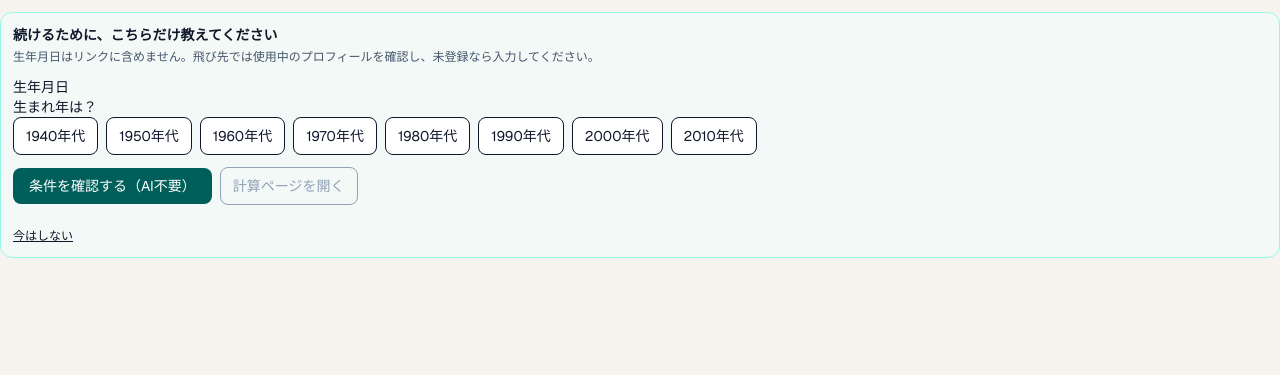
it: 月日不明の本命星は代表日を送り、保存しない
The width and height of the screenshot is (1280, 375).
Click the button "1990年代".
click(521, 136)  # box [478,117,564,155]
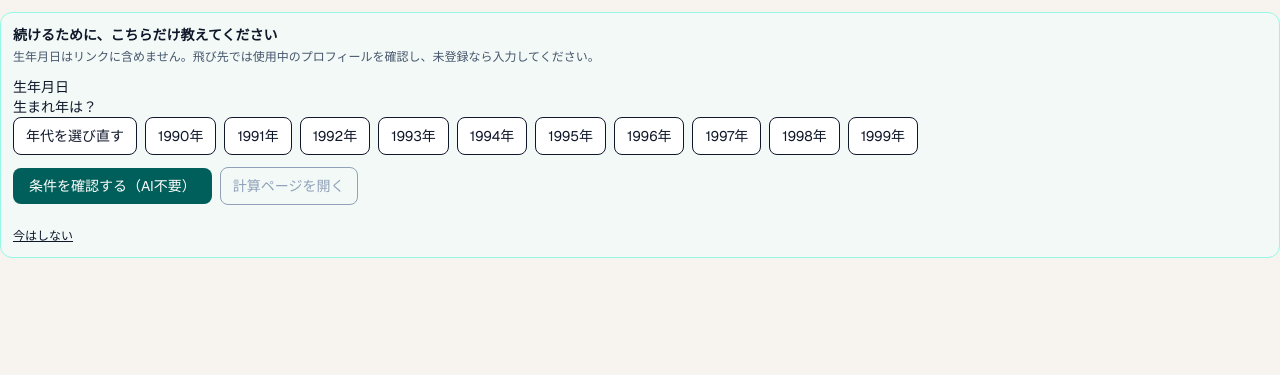
Click the button "1990年".
click(181, 136)  # box [145,117,216,155]
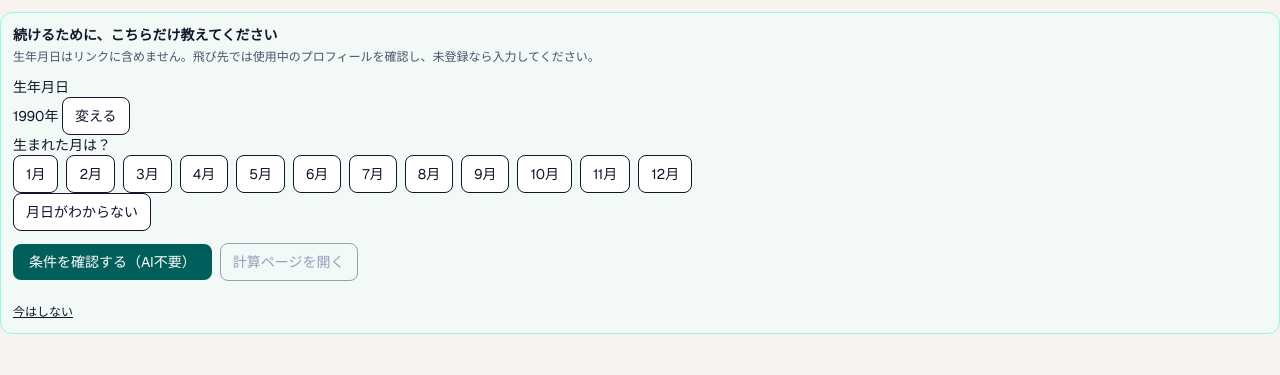
Click the button "月日がわからない".
click(82, 212)  # box [13,193,151,231]
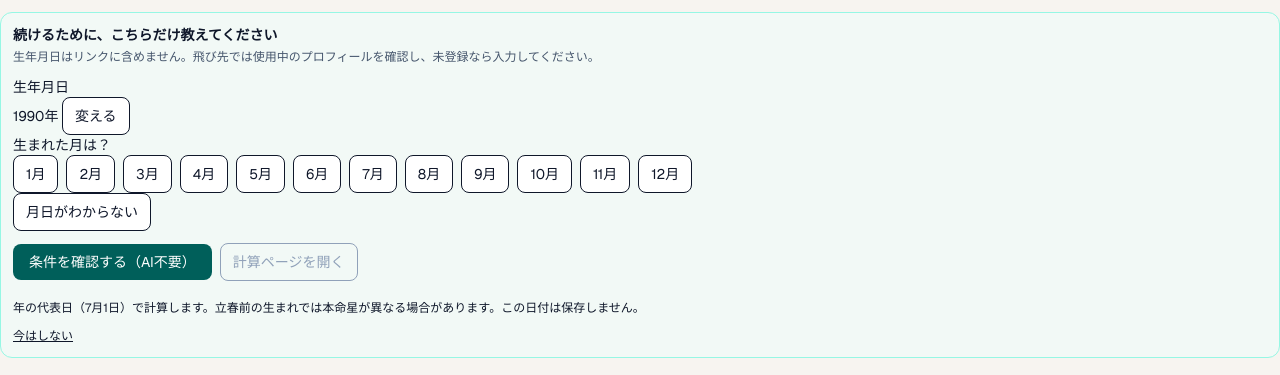
Click the button "条件を確認する（AI不要）".
click(112, 262)  # box [13,244,212,280]
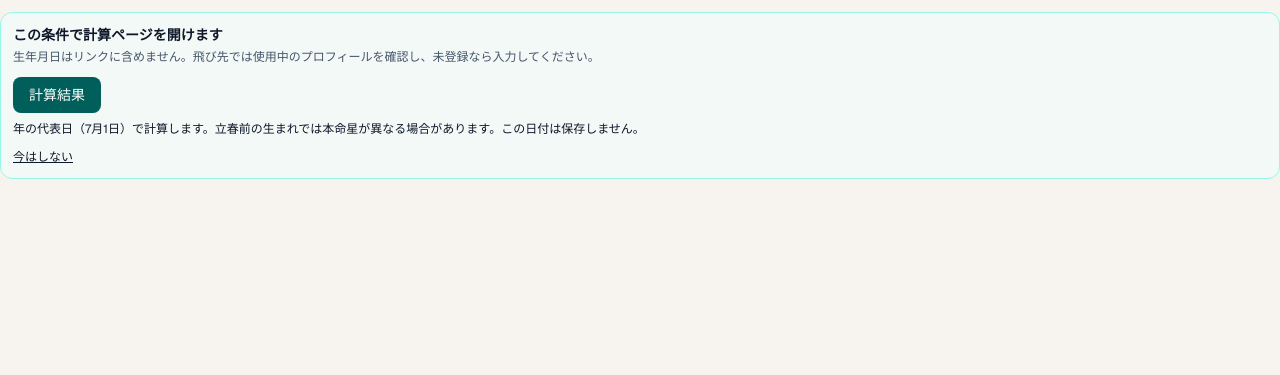
Now the text "年の代表日（7月1日）で計算します。立春前の生まれでは本命星が異なる場合があります。この日付は保存しません。" is shown, box [13,121,645,137]
Now the link "計算結果" is shown, box [13,77,101,113]
